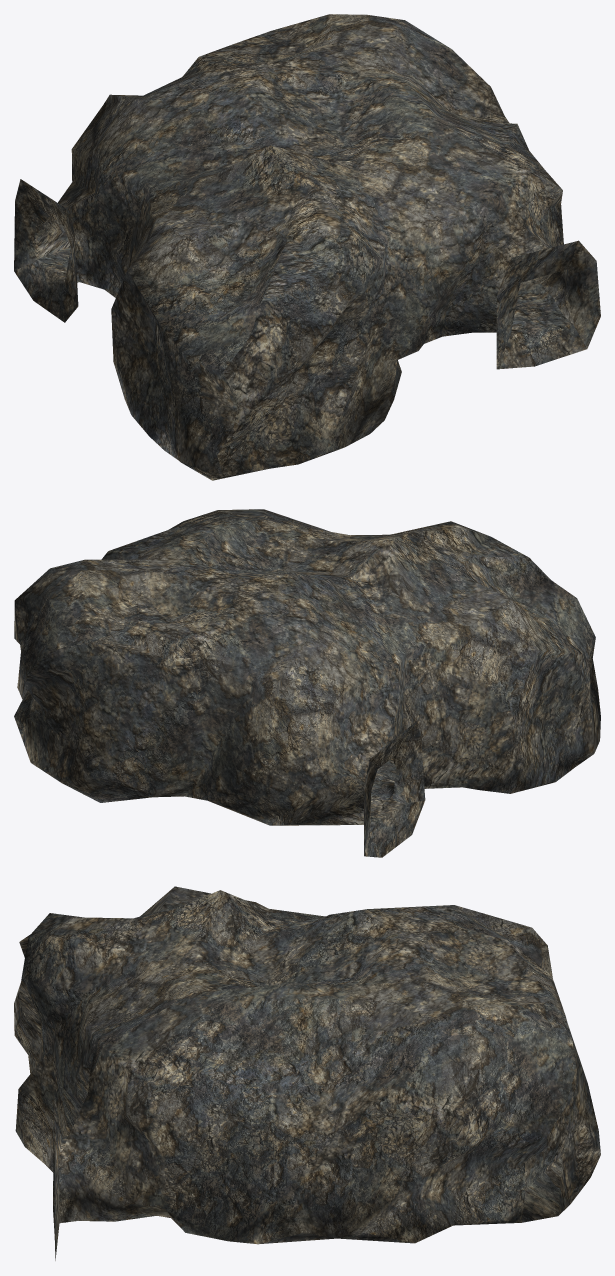
Rendered from Module17_LOD2.fbx.
3 views of the same model, one above another, from view 1: azimuth 30°, elevation 25°; view 2: azimuth 150°, elevation 25°; view 3: azimuth 270°, elevation 25° (orthographic). The views are drawn at different scales.
Visible parts, largest first — view 1: cave_el17_1800:Group53624; view 2: cave_el17_1800:Group53624; view 3: cave_el17_1800:Group53624.
Part boxes in pixels (x1,y1,x2,y2): cave_el17_1800:Group53624: (14,14,600,480); cave_el17_1800:Group53624: (14,509,600,857); cave_el17_1800:Group53624: (14,886,600,1260).
Bounding box in the file's own units: 36.46 × 20.01 × 35.99.
